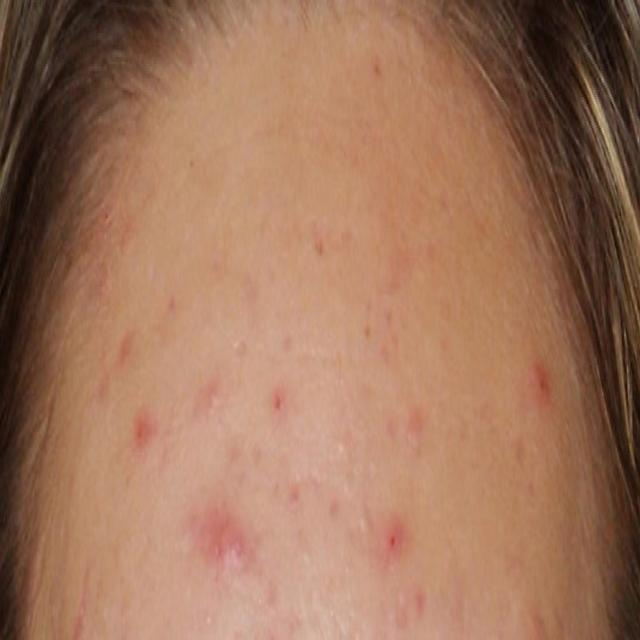Acne: (90, 170, 575, 640)
